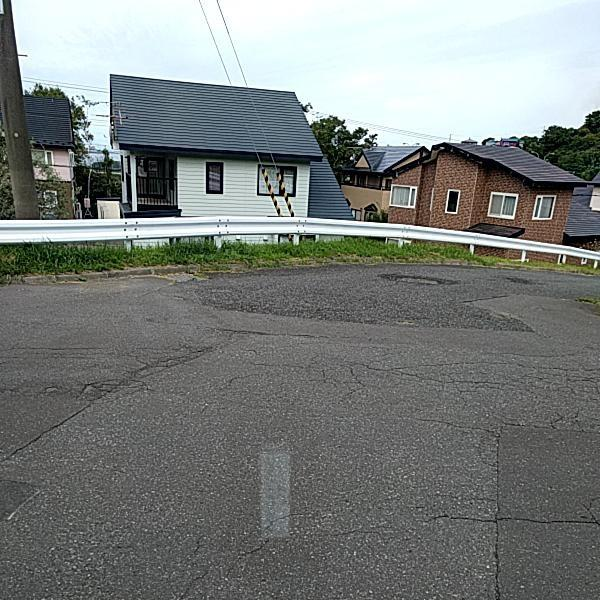pothole: (381, 268, 457, 286)
